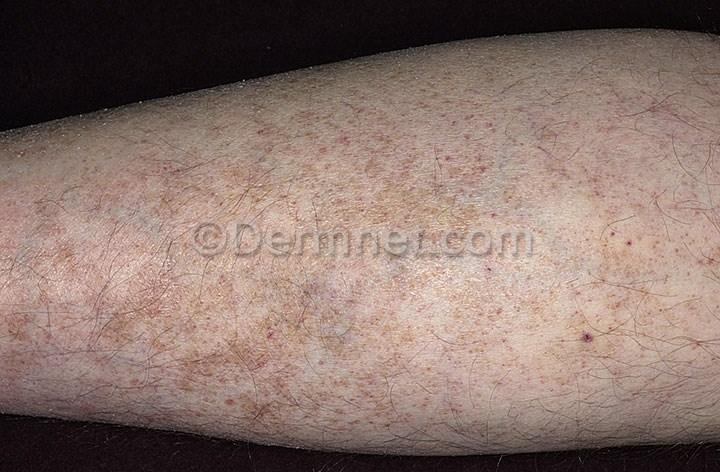Eczema: (295, 169, 410, 270), (418, 170, 533, 265), (197, 205, 309, 302), (362, 354, 463, 461), (389, 266, 505, 355), (66, 272, 176, 355), (365, 90, 479, 169), (509, 96, 600, 187), (169, 355, 269, 432), (90, 156, 204, 223), (312, 258, 404, 335), (551, 318, 638, 398), (201, 137, 286, 217), (175, 274, 254, 360), (262, 303, 364, 369), (584, 250, 666, 325), (607, 63, 691, 134), (506, 256, 579, 335), (123, 89, 203, 161), (272, 108, 359, 172), (110, 224, 191, 291), (269, 365, 359, 425), (573, 136, 663, 196), (659, 191, 720, 279), (11, 182, 95, 242), (0, 280, 60, 362), (25, 220, 102, 282), (596, 208, 671, 264), (203, 86, 275, 131), (464, 350, 517, 409), (274, 68, 341, 109)
